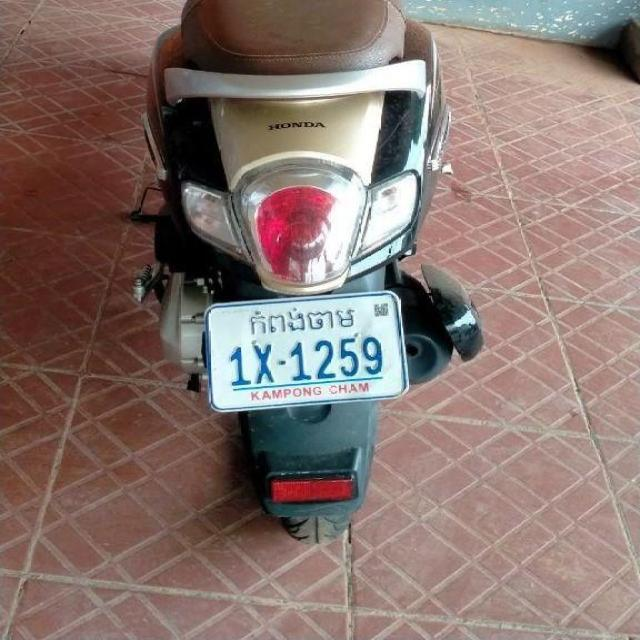Kampong_Cham: (250, 308, 355, 335)
